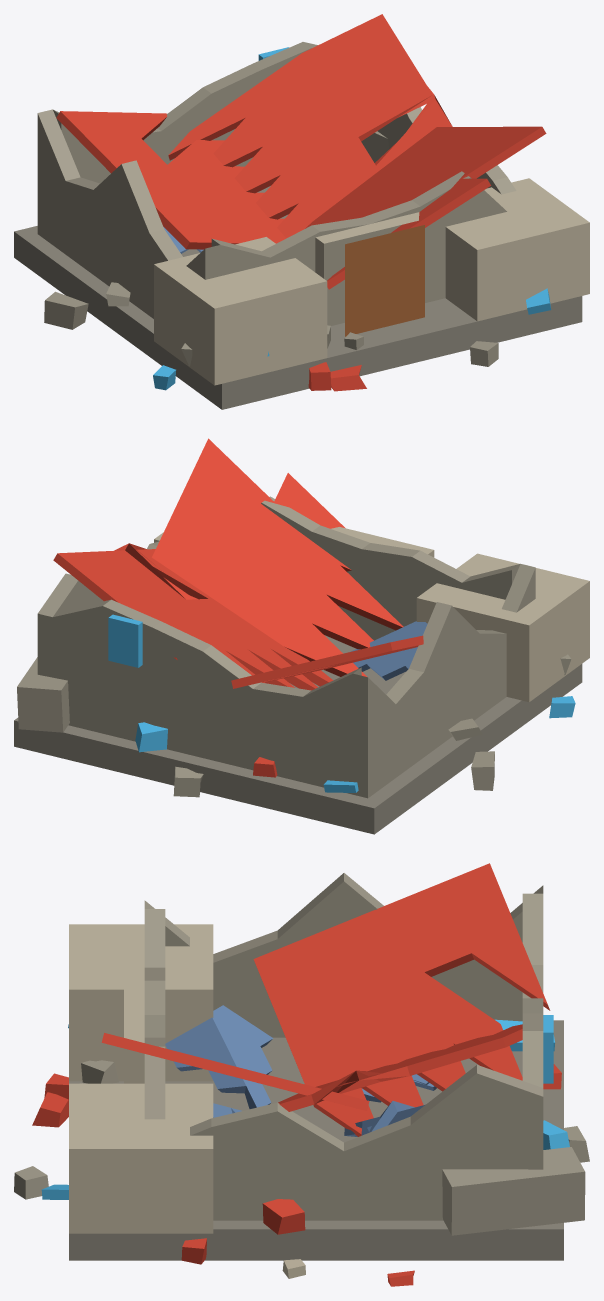
File: house_t3_v3_dmg2.glb
3 renders of one model, top to bottom at view 1: azimuth 30°, elevation 25°; view 2: azimuth 150°, elevation 25°; view 3: azimuth 270°, elevation 25°, orthographic. The views are drawn at different scales.
Parts seen in each view (by area): view 1: house_t3_v3_dmg2; view 2: house_t3_v3_dmg2; view 3: house_t3_v3_dmg2.
Part boxes in pixels (bbox=[...]): house_t3_v3_dmg2: bbox=[14, 14, 589, 409]; house_t3_v3_dmg2: bbox=[14, 438, 589, 834]; house_t3_v3_dmg2: bbox=[14, 863, 589, 1286].
Bounding box in the file's own units: 0.9003 × 0.3415 × 0.838.
Materials: 1 (1 with a texture image).
